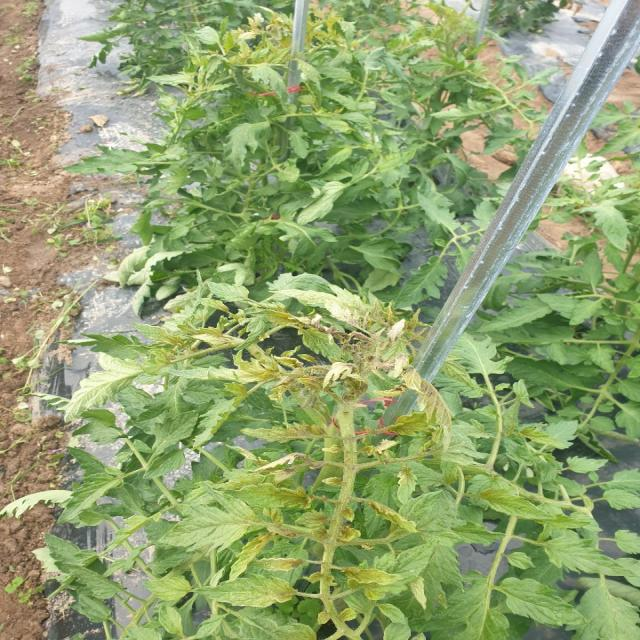Healthy Leaf: (159, 484, 256, 554), (349, 543, 435, 601), (503, 578, 586, 628), (544, 539, 637, 579), (197, 574, 296, 609), (58, 478, 125, 526), (271, 285, 366, 318), (452, 331, 517, 377), (169, 354, 268, 384), (418, 380, 452, 454), (400, 491, 457, 534), (482, 488, 554, 520), (222, 485, 316, 509), (195, 400, 240, 450), (152, 412, 200, 457), (67, 564, 121, 599), (242, 424, 327, 445), (300, 328, 344, 361), (537, 420, 581, 449), (393, 414, 440, 438), (145, 579, 192, 603), (134, 324, 184, 346), (236, 319, 269, 352), (209, 283, 250, 303), (398, 469, 420, 504), (568, 457, 608, 476), (274, 625, 316, 640)
